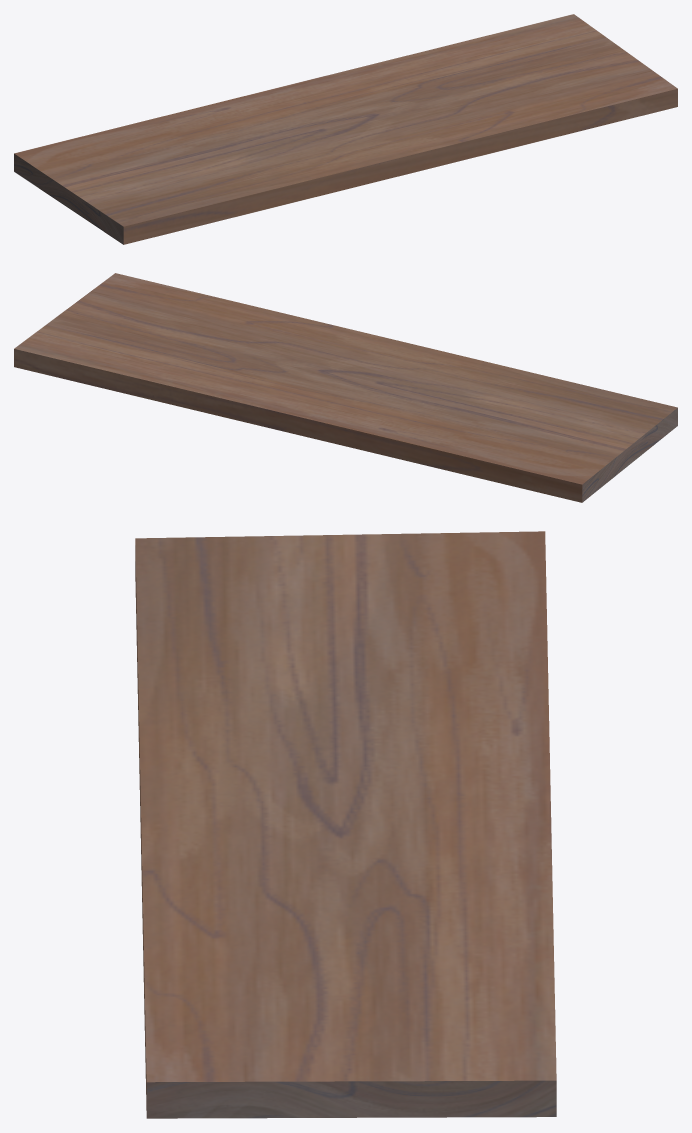
Rendered from plank_071.fbx.
The picture shows the model from 3 angles, top to bottom: view 1: azimuth 30°, elevation 25°; view 2: azimuth 150°, elevation 25°; view 3: azimuth 270°, elevation 25°; orthographic projection. The views are drawn at different scales.
Parts seen in each view (by area): view 1: plank.071; view 2: plank.071; view 3: plank.071.
Boxes of the visible parts, x1,y1,x2,y2 form: plank.071: (14,14,677,244); plank.071: (14,273,677,502); plank.071: (135,531,556,1118).
Size of the model in its own units: 32.3 by 0.9957 by 10.44.
